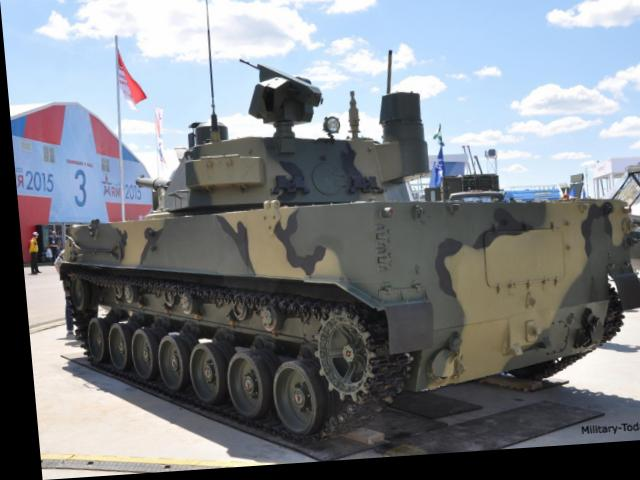other: (20, 227, 39, 274)
tank: (56, 117, 622, 422)
